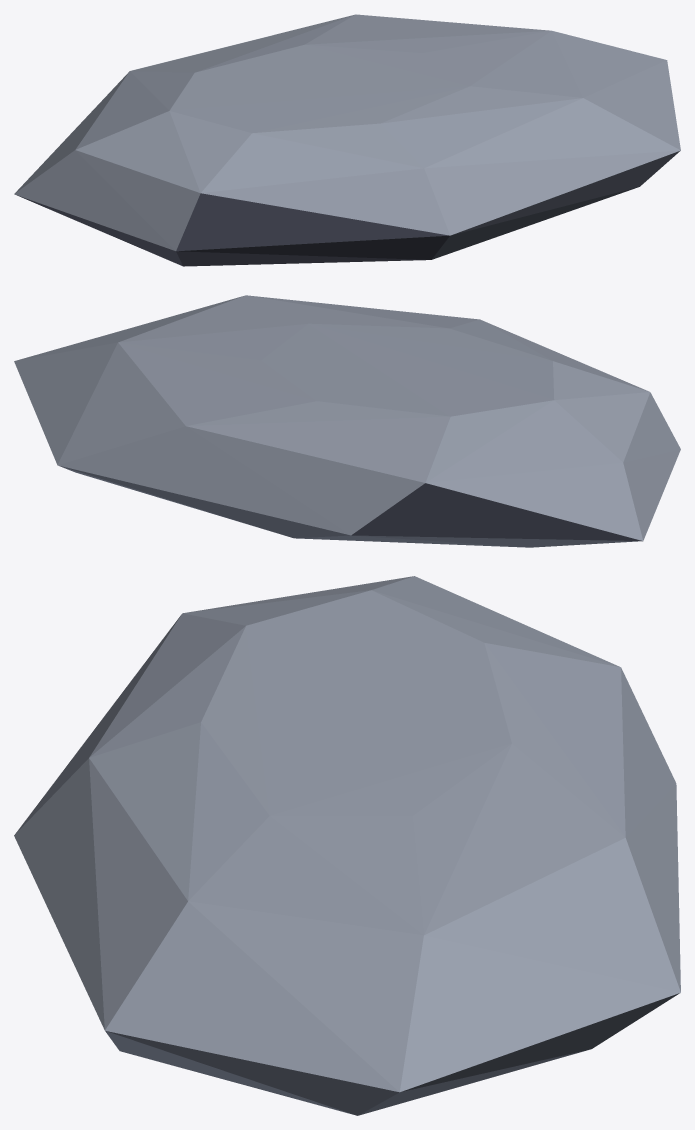
File: TW_ROCK_FLAT_SLAB_A_LOD0.glb
3 renders of one model, top to bottom at view 1: azimuth 30°, elevation 25°; view 2: azimuth 150°, elevation 25°; view 3: azimuth 270°, elevation 25°, orthographic. The views are drawn at different scales.
Parts seen in each view (by area): view 1: TW_ROCK_FLAT_SLAB_A_LOD0; view 2: TW_ROCK_FLAT_SLAB_A_LOD0; view 3: TW_ROCK_FLAT_SLAB_A_LOD0.
Boxes of the visible parts, left/top/right/bottom form: TW_ROCK_FLAT_SLAB_A_LOD0: left=14, top=14, right=680, bottom=266; TW_ROCK_FLAT_SLAB_A_LOD0: left=14, top=295, right=680, bottom=547; TW_ROCK_FLAT_SLAB_A_LOD0: left=14, top=576, right=680, bottom=1115.
Size of the model in its own units: 1.42 by 0.2399 by 0.8535.
1 material, 1 textured.
